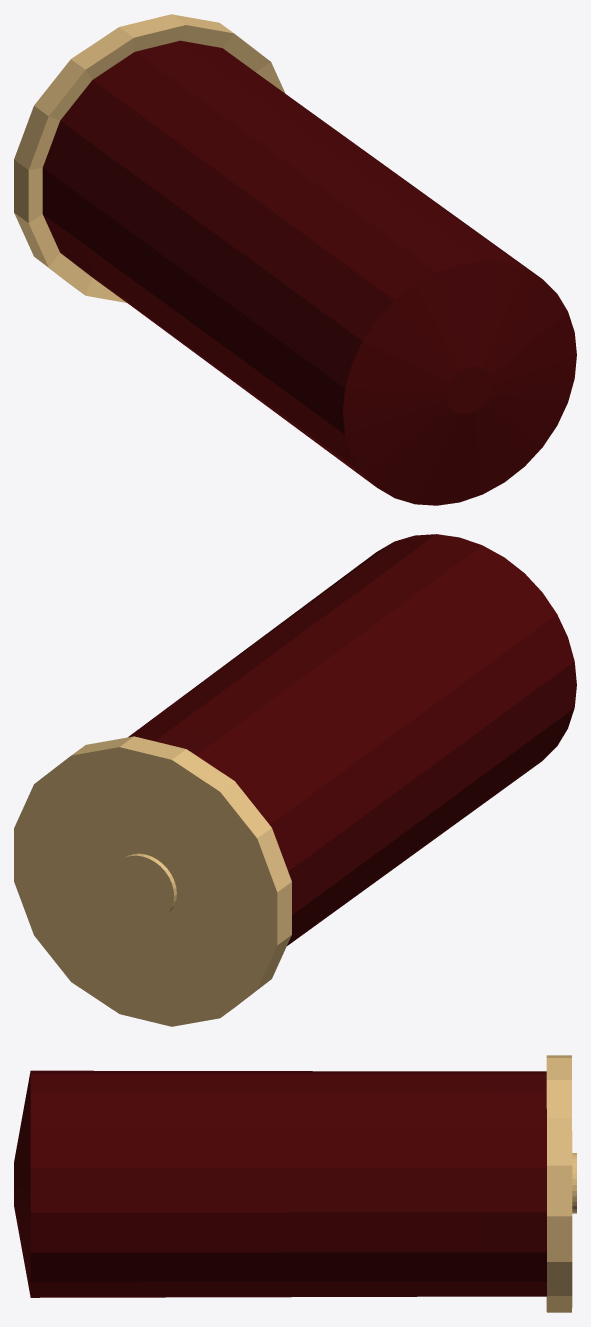
File: shotgun_ammo.fbx
3 renders of one model, top to bottom at view 1: azimuth 30°, elevation 25°; view 2: azimuth 150°, elevation 25°; view 3: azimuth 270°, elevation 25°, orthographic. The views are drawn at different scales.
Parts seen in each view (by area): view 1: Cube.005; view 2: Cube.005; view 3: Cube.005.
Part boxes in pixels (x1,y1,x2,y2): Cube.005: [14, 14, 576, 505]; Cube.005: [14, 534, 576, 1026]; Cube.005: [14, 1055, 576, 1312].
Bounding box in the file's own units: 2.73 × 5.87 × 2.64.
